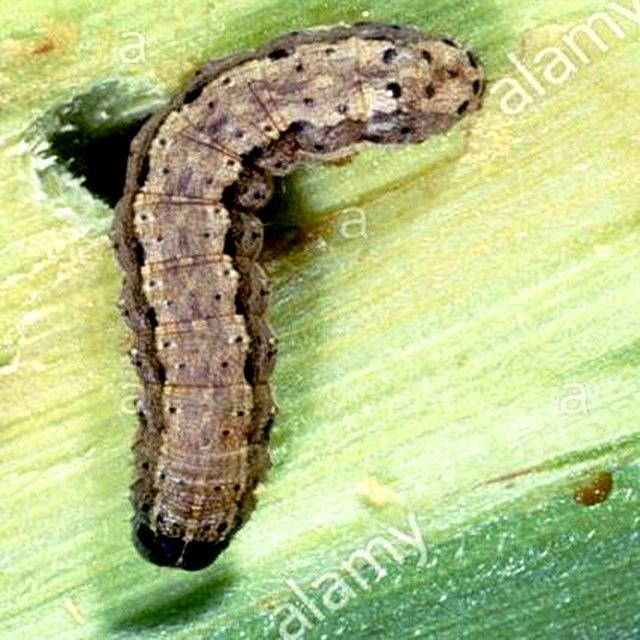worm: (107, 19, 487, 571)
